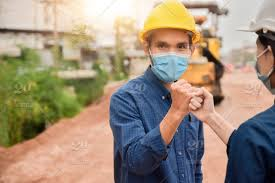Helmet: (137, 1, 206, 42)
Mask: (141, 53, 197, 82)
No-jacket: (111, 84, 206, 183)
